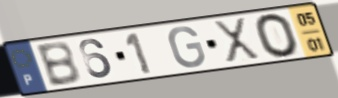1: (124, 31, 154, 76)
6: (78, 38, 115, 81)
B: (33, 40, 84, 89)
G: (167, 25, 209, 69)
O: (252, 12, 301, 60)
X: (211, 16, 264, 65)
